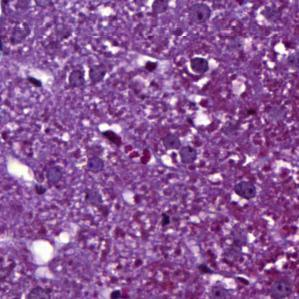inflammation: (183, 53, 225, 79), (96, 118, 127, 148), (24, 69, 58, 95)
